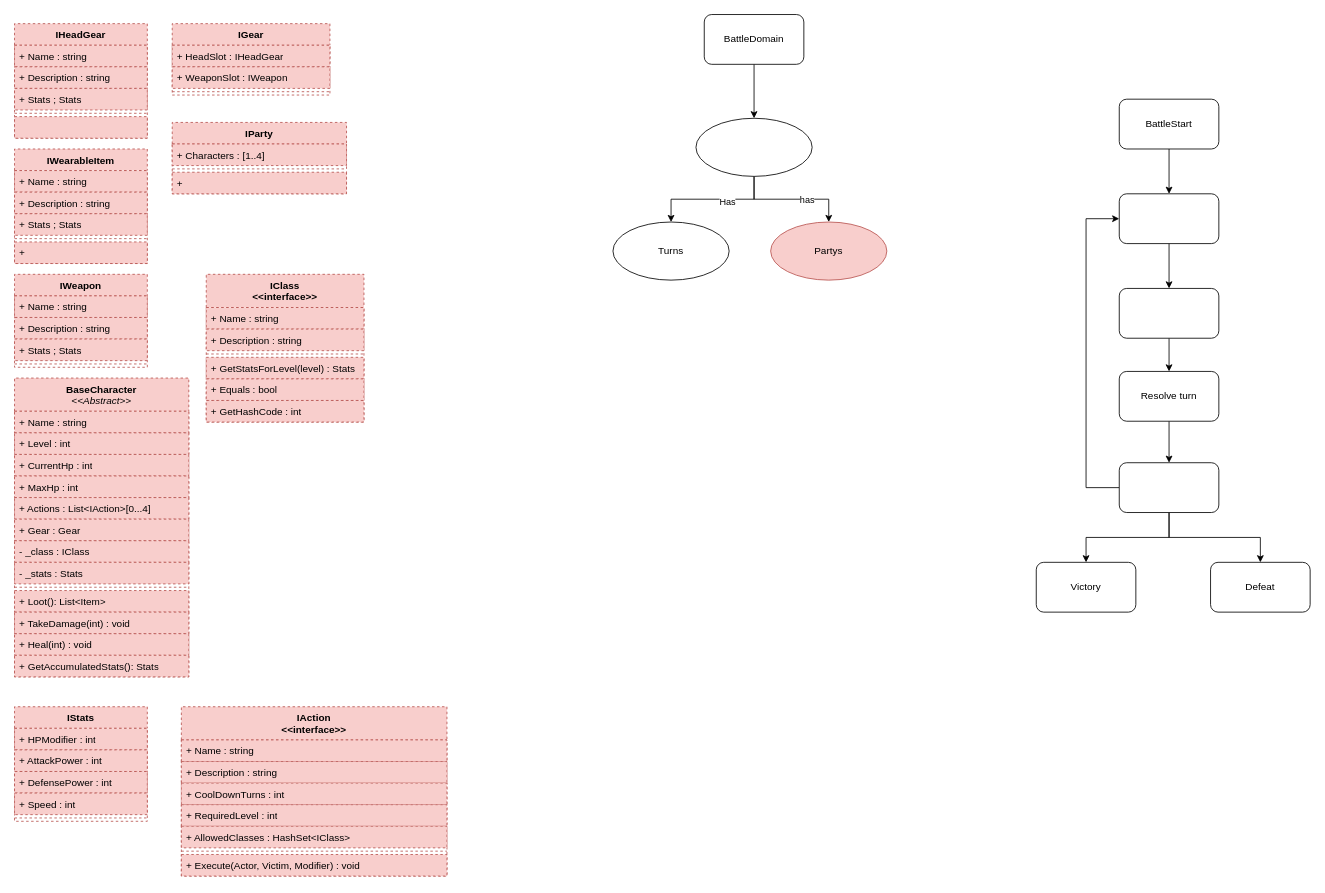
Image size: 1325x893. Some labels were removed from this diagram. Here are the shapes that lost their labels. From the top down, the centre of each, then its label:
At [753,146]: "Battle <<StateMachine>>".
At [1168,218]: "PartyTurn".
At [1168,313]: "Opposite PartyTurn".
At [1168,487]: "Check status".
